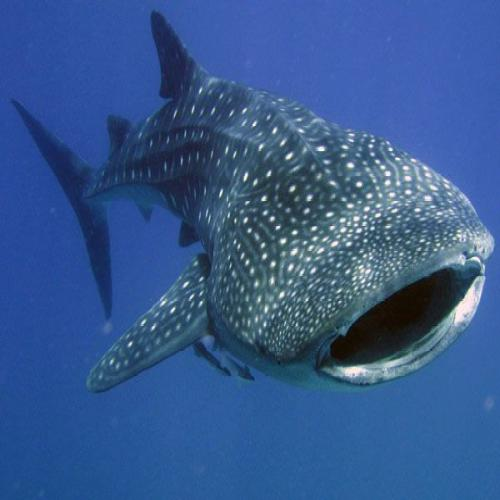shark-endangered: (10, 13, 494, 395)
